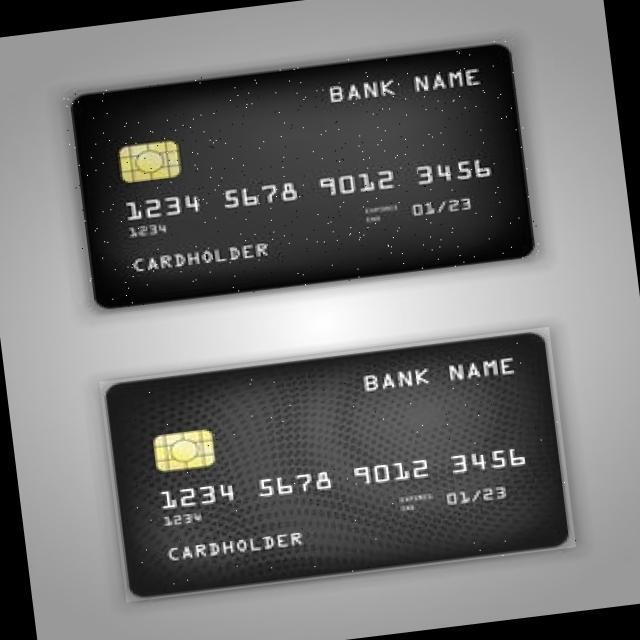payment_card: (97, 325, 577, 600), (68, 41, 536, 308)
